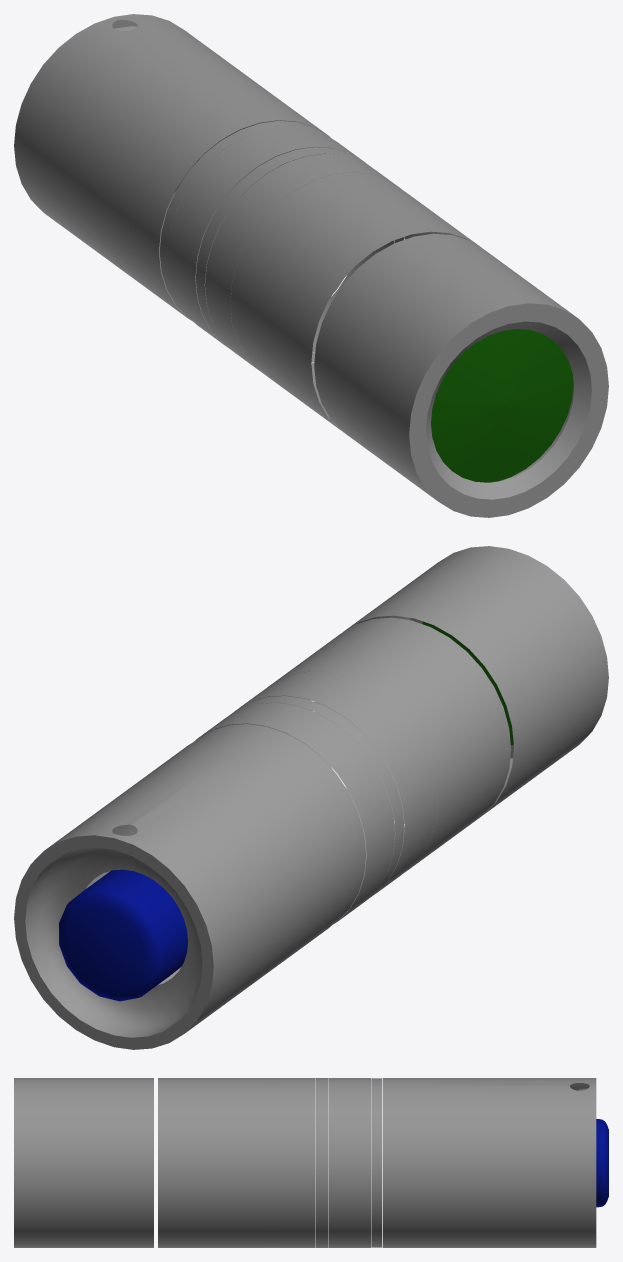
The model's file is Flashlight G2V3_LOD0.FBX.
3 renders of one model, top to bottom at view 1: azimuth 30°, elevation 25°; view 2: azimuth 150°, elevation 25°; view 3: azimuth 270°, elevation 25°, orthographic. The views are drawn at different scales.
Visible parts, largest first — view 1: Mat1_Body Bottom_LOD0, Mat1_Body Top_LOD0, Mat4_Glass_LOD0; view 2: Mat1_Body Bottom_LOD0, Mat1_Body Top_LOD0, Mat2_Button_LOD0; view 3: Mat1_Body Bottom_LOD0, Mat1_Body Top_LOD0, Mat2_Button_LOD0.
Part boxes in pixels (x1=…): Mat1_Body Bottom_LOD0: x1=14, y1=14, x2=482, y2=430; Mat1_Body Top_LOD0: x1=314, y1=233, x2=608, y2=517; Mat4_Glass_LOD0: x1=431, y1=329, x2=573, y2=482; Mat1_Body Bottom_LOD0: x1=14, y1=617, x2=511, y2=1049; Mat1_Body Top_LOD0: x1=314, y1=546, x2=608, y2=823; Mat2_Button_LOD0: x1=59, y1=869, x2=187, y2=1001; Mat1_Body Bottom_LOD0: x1=158, y1=1078, x2=596, y2=1247; Mat1_Body Top_LOD0: x1=14, y1=1078, x2=153, y2=1247; Mat2_Button_LOD0: x1=596, y1=1119, x2=608, y2=1207.
Bounding box in the file's own units: 2.56 × 2.56 × 8.96.
